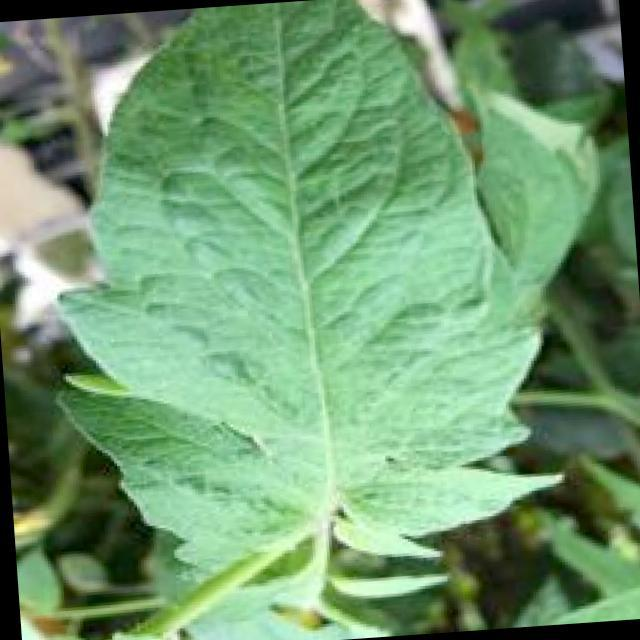Tomato healthy leaf: (41, 0, 607, 580)
